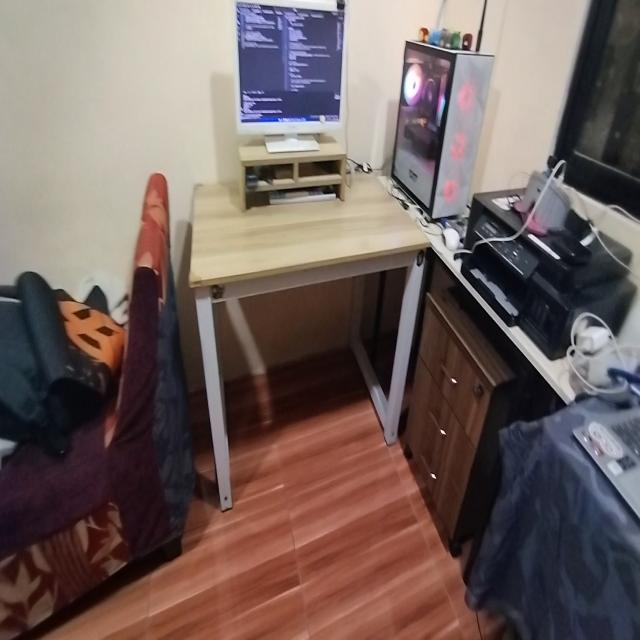table: (188, 165, 432, 508)
